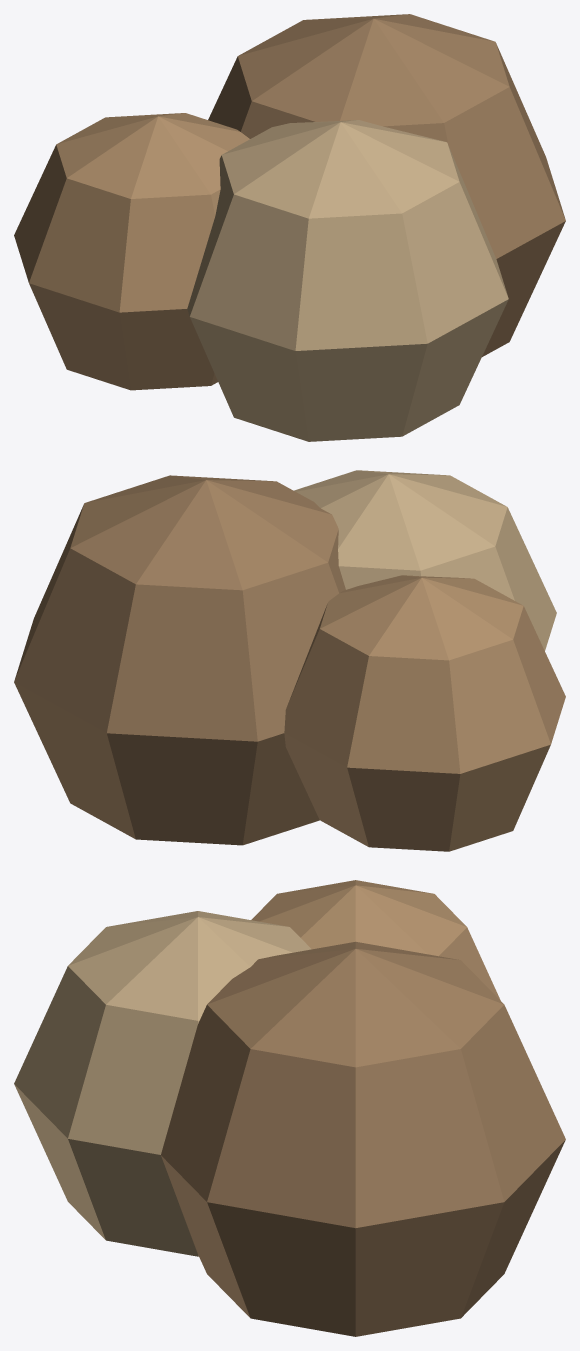
Rendered from modelo.glb.
3 renders of one model, top to bottom at view 1: azimuth 30°, elevation 25°; view 2: azimuth 150°, elevation 25°; view 3: azimuth 270°, elevation 25°, orthographic. The views are drawn at different scales.
Parts seen in each view (by area): view 1: polvo_diamante; view 2: polvo_diamante; view 3: polvo_diamante.
Part boxes in pixels (x1,y1,x2,y2): polvo_diamante: [14, 14, 565, 441]; polvo_diamante: [14, 470, 565, 851]; polvo_diamante: [14, 880, 565, 1336].
Size of the model in its own units: 0.024 by 0.016 by 0.021.
